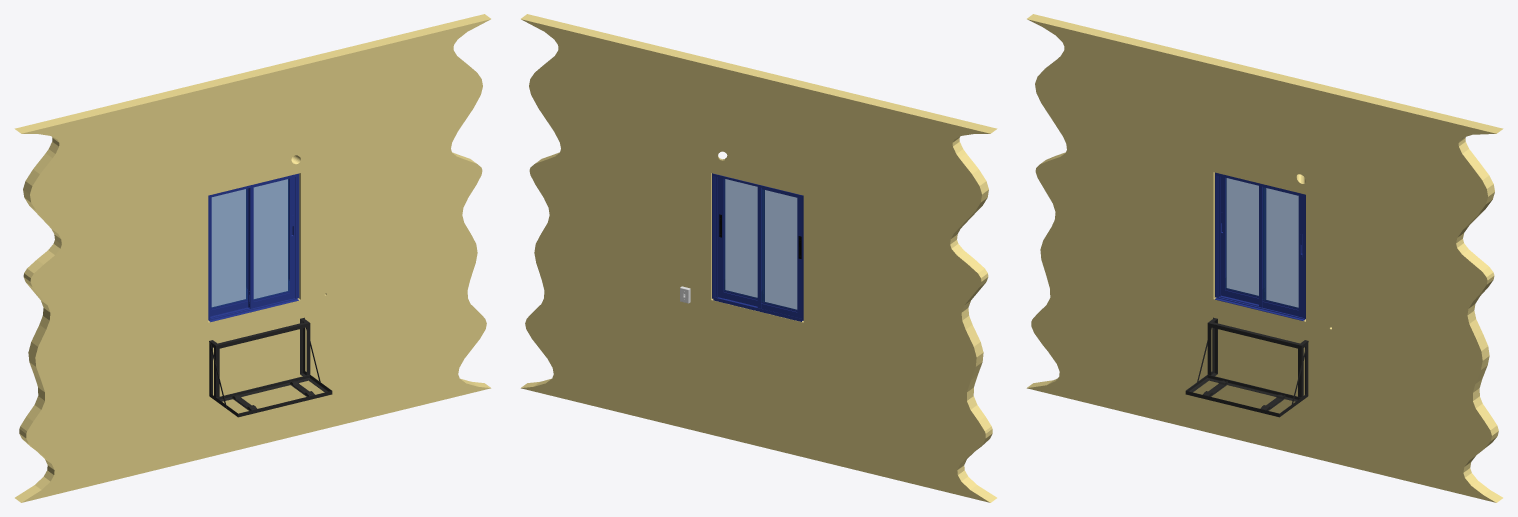
The model's file is wall Window_V02.FBX.
3 views of the same model, side by side, from view 1: azimuth 30°, elevation 25°; view 2: azimuth 150°, elevation 25°; view 3: azimuth 330°, elevation 25° (orthographic).
Parts seen in each view (by area): view 1: Wall-Window, Wall and window, 7amel, Window Fram; view 2: Wall-Window, Wall and window, Window Fram; view 3: Wall-Window, Wall and window, 7amel, Window Fram.
Boxes of the visible parts, left/top/right/bottom form: Wall-Window: left=14, top=14, right=491, bottom=502; Wall and window: left=248, top=177, right=295, bottom=308; 7amel: left=209, top=317, right=332, bottom=417; Window Fram: left=208, top=173, right=299, bottom=322; Wall-Window: left=520, top=14, right=997, bottom=502; Wall and window: left=718, top=177, right=764, bottom=306; Window Fram: left=712, top=173, right=803, bottom=321; Wall-Window: left=1026, top=14, right=1503, bottom=502; Wall and window: left=1259, top=186, right=1304, bottom=317; 7amel: left=1185, top=317, right=1308, bottom=417; Window Fram: left=1215, top=172, right=1305, bottom=321.
Size of the model in its own units: 400000 by 300000 by 56130.
